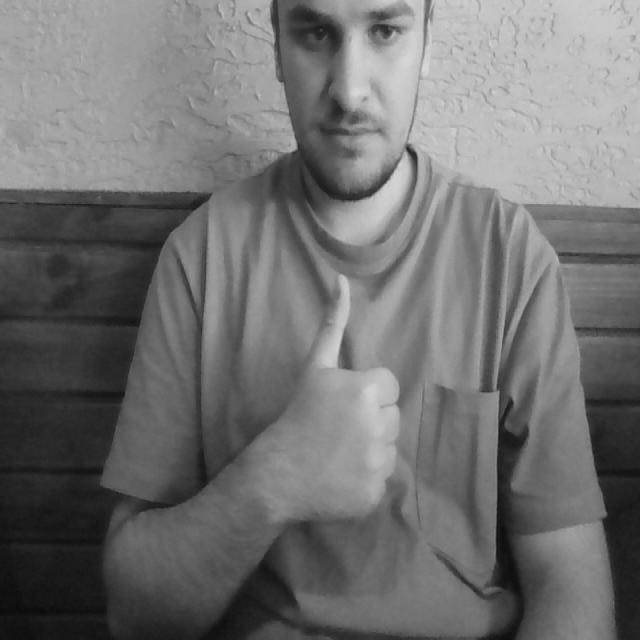Tamam: (270, 271, 404, 531)
